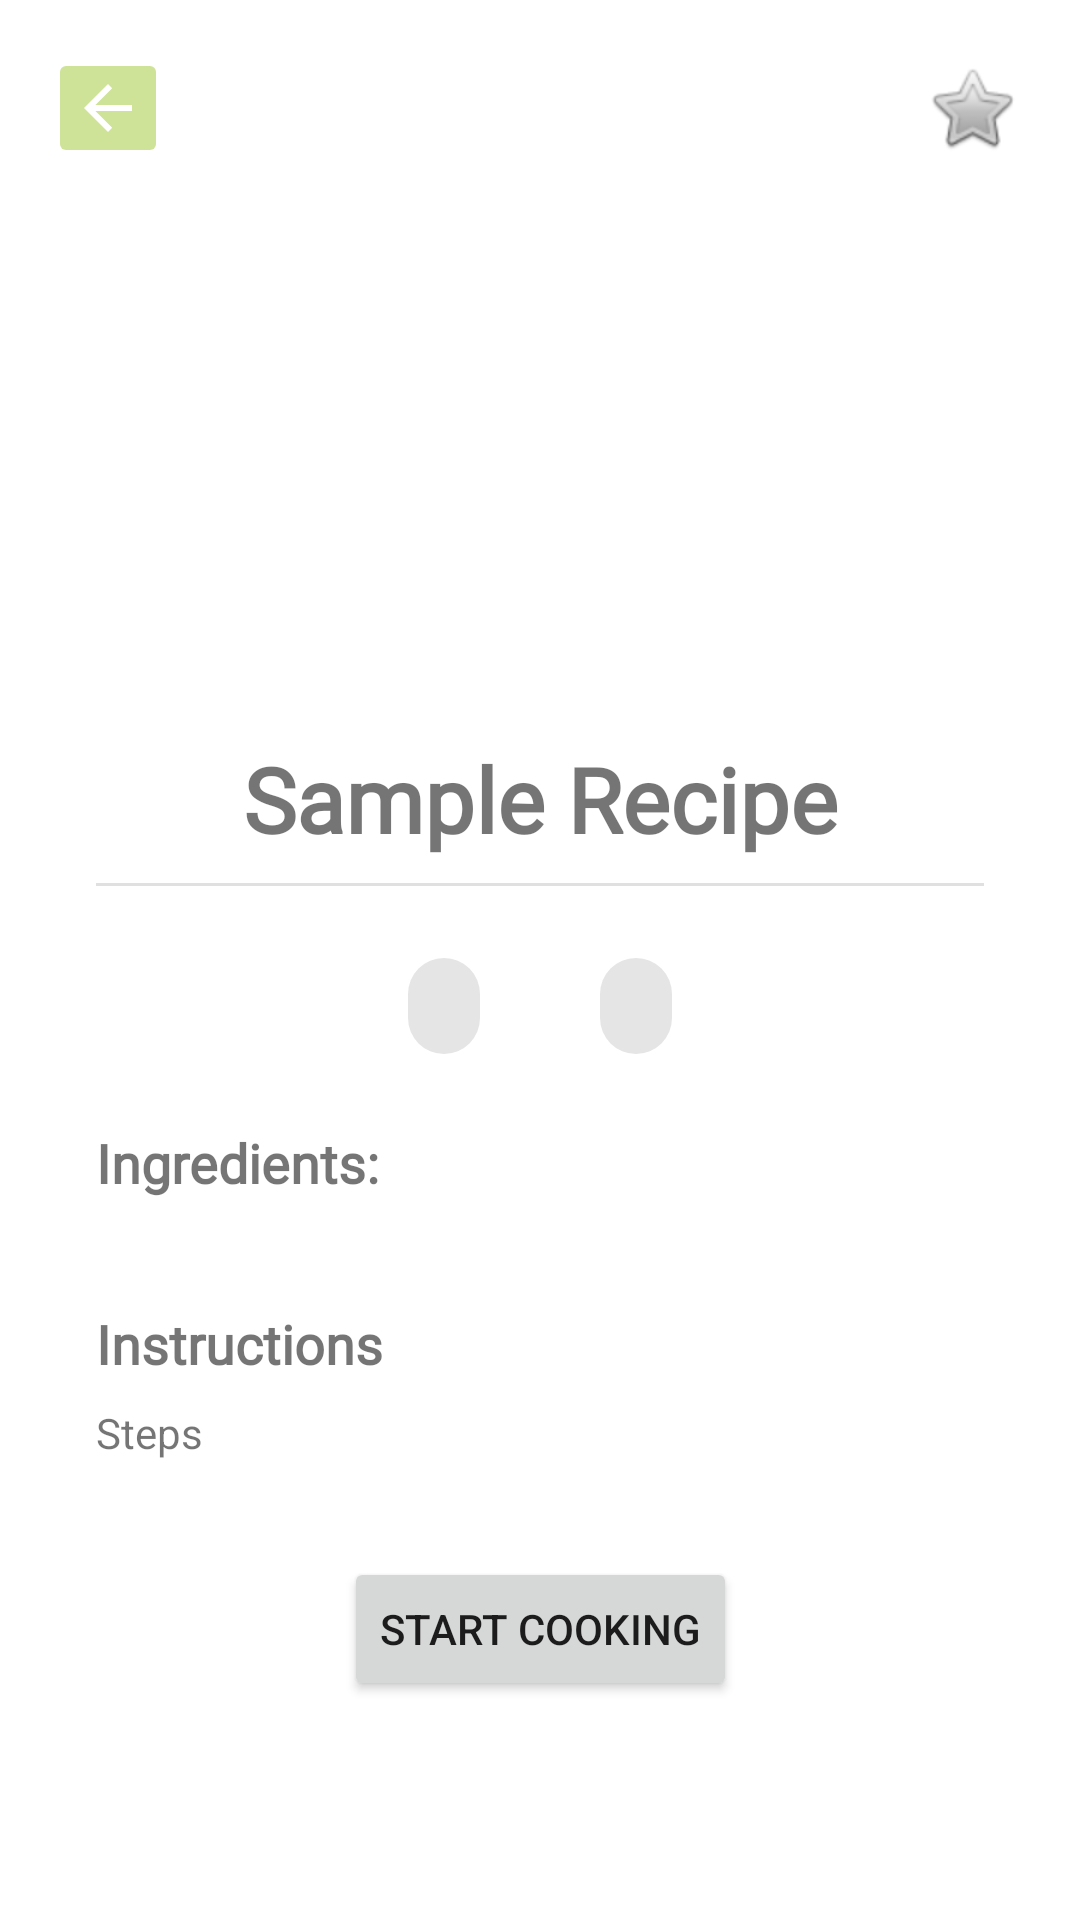

Where to tap for icons on this 1080px x 1920px app screen, as (x,y):
star off: (973,109)
